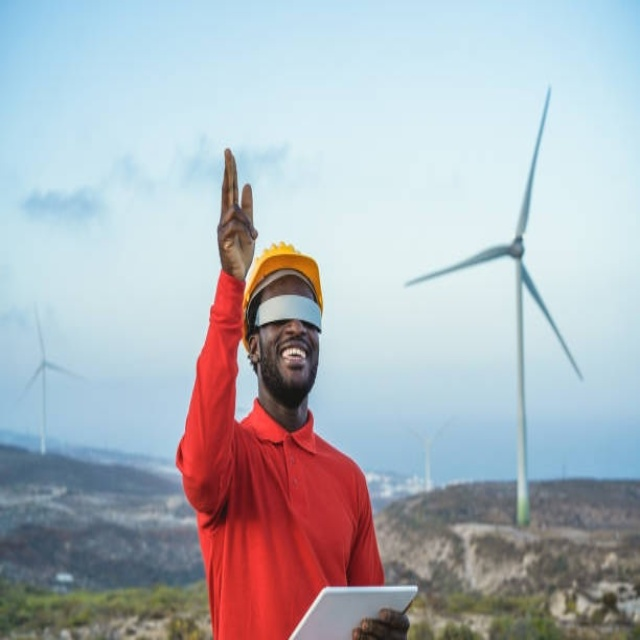Sin_guantes: (217, 147, 258, 280), (353, 606, 411, 640)
Sin_mascara: (276, 337, 311, 376)
